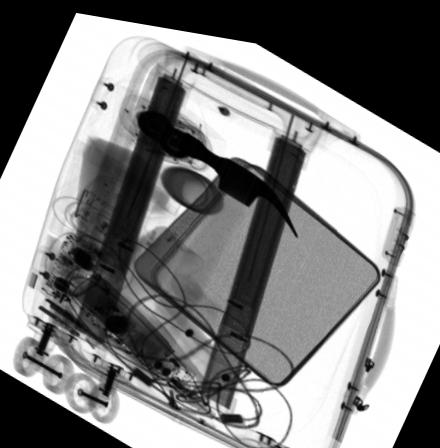Hammer: (124, 124, 299, 375)
